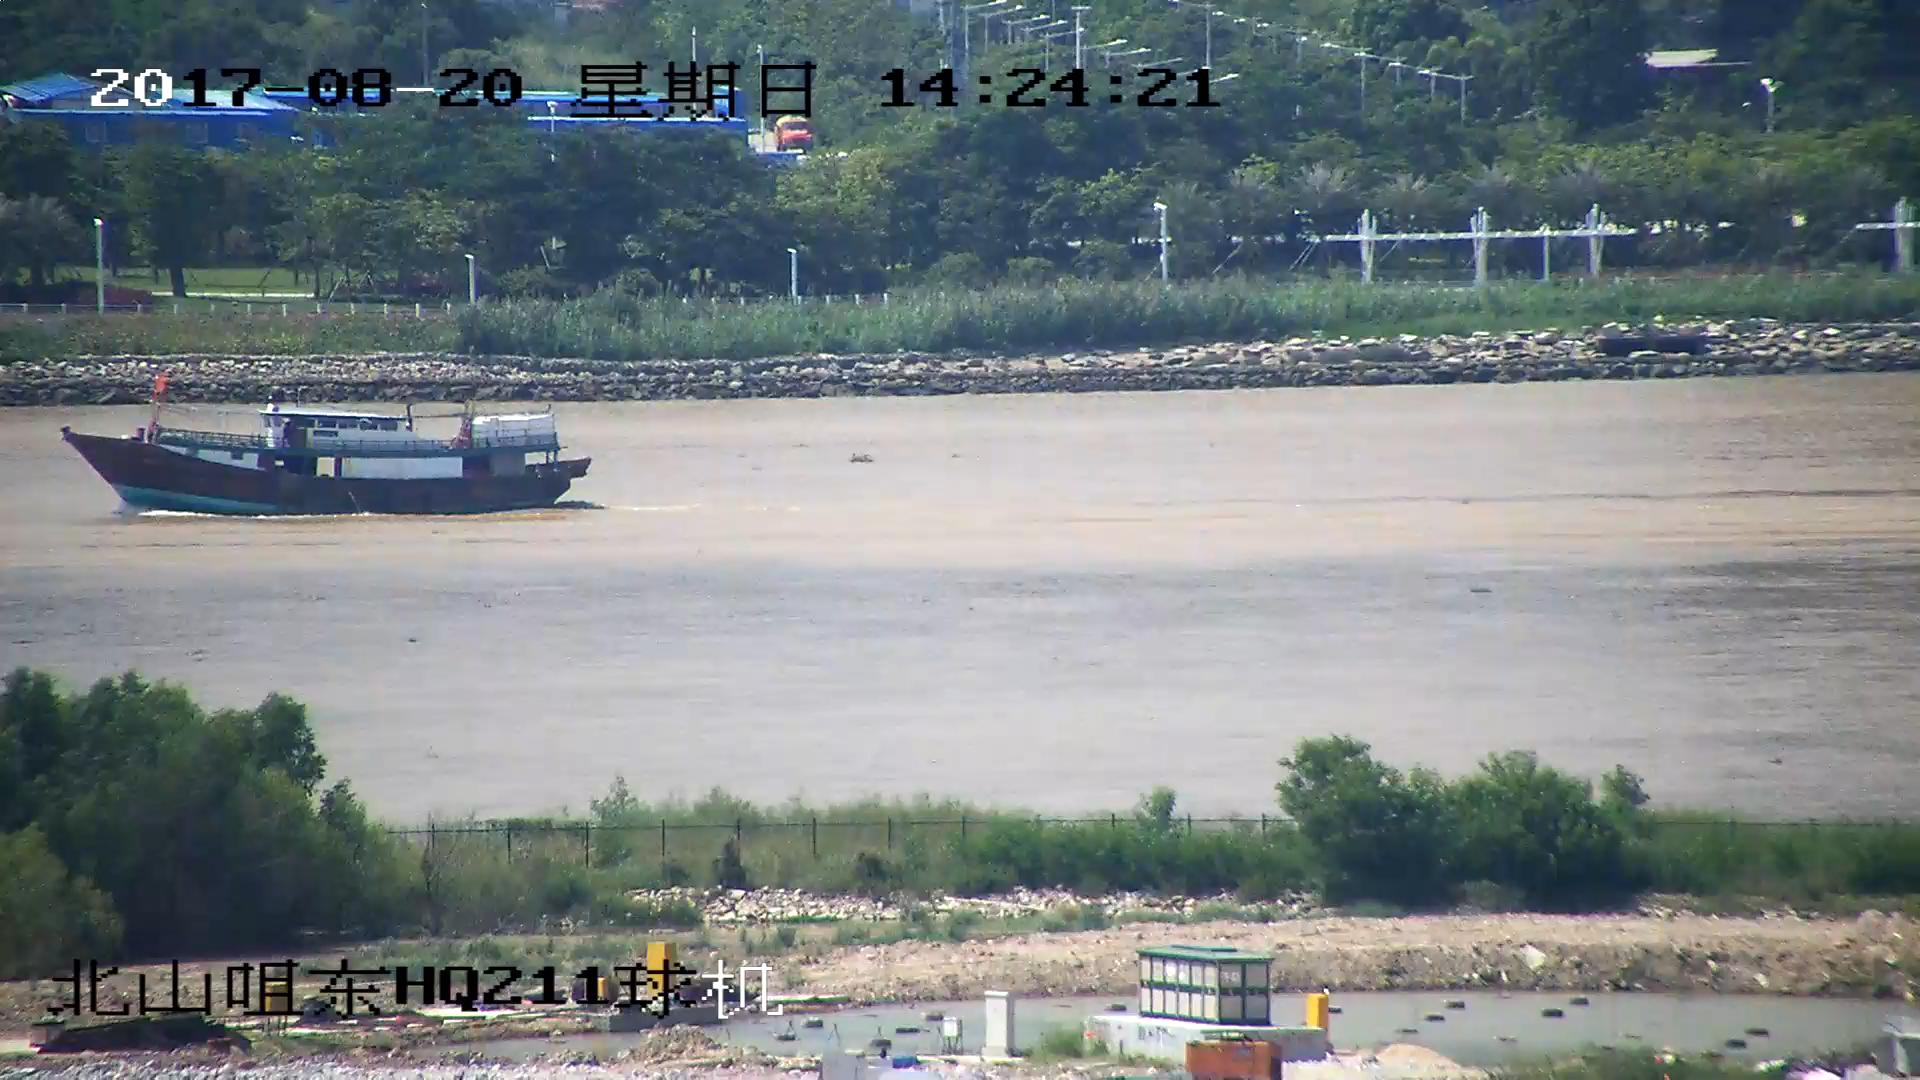fishing boat: (57, 386, 590, 515)
